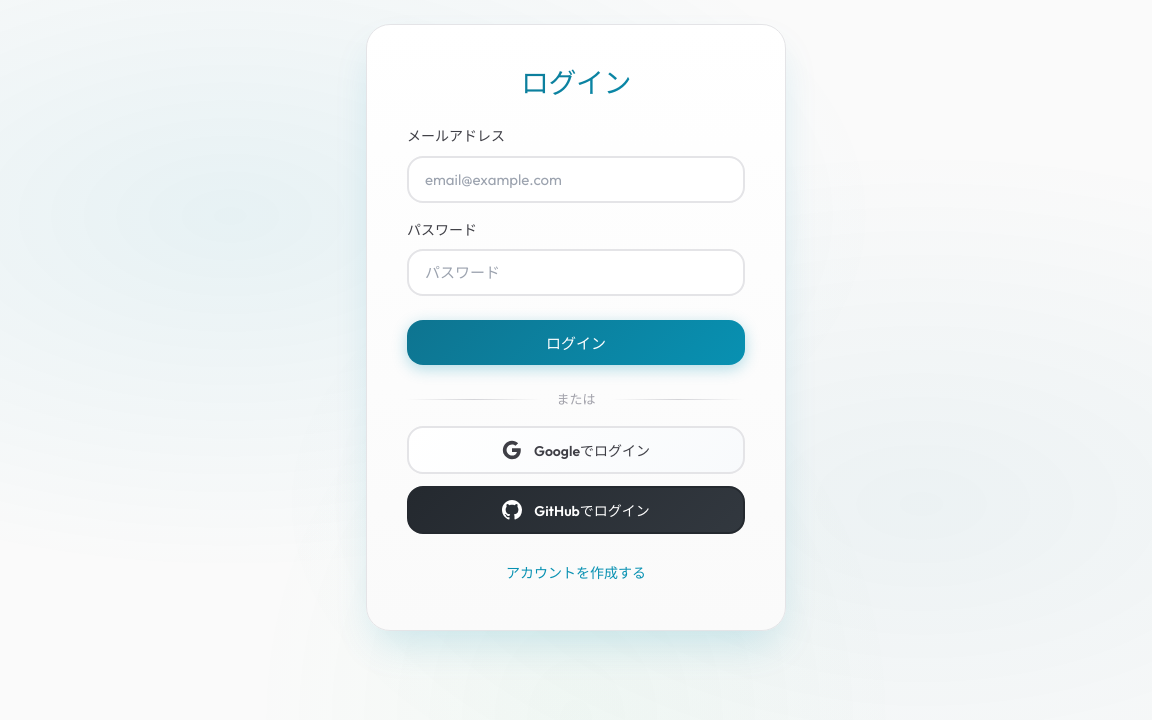
LoginPage › toggle between login and sign up › should switch to sign up mode when toggle button is clicked
Click the button "アカウントを作成する" at (576, 572), box [498,554,654,590]
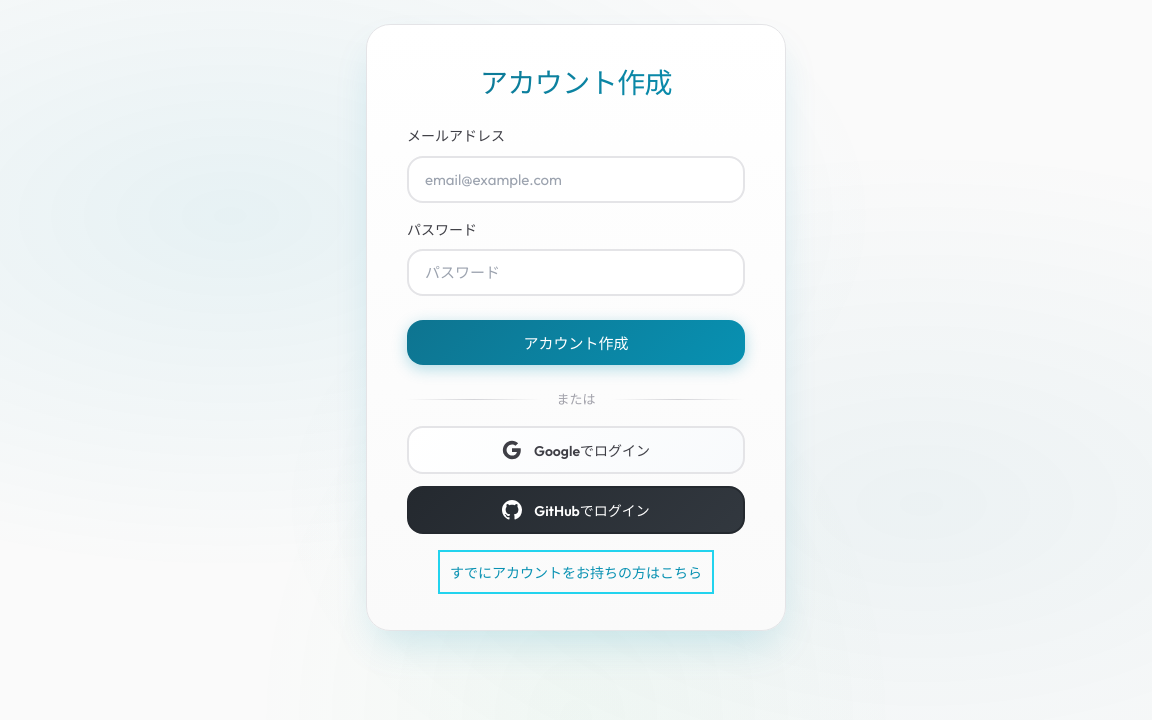
Result: the heading "アカウント作成" is shown at [407,65,745,101]
Result: the button "アカウント作成" is shown at [407,320,745,365]
Result: the button "すでにアカウントをお持ちの方はこちら" is shown at [442,554,710,590]
